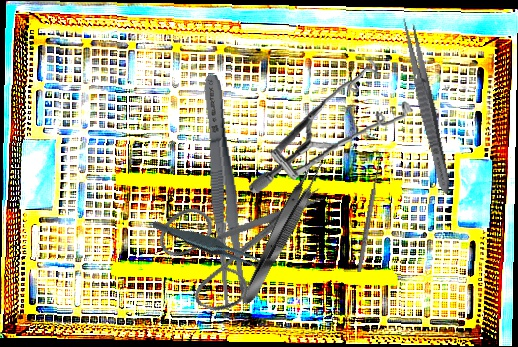Dressing Forceps: (197, 74, 250, 306), (397, 15, 456, 197)
Hook Surgical: (351, 150, 385, 273)
Iris Scissors: (140, 138, 330, 335)
Speculum: (240, 56, 420, 194)
Tissue Forceps: (234, 154, 329, 310), (150, 199, 267, 292)
